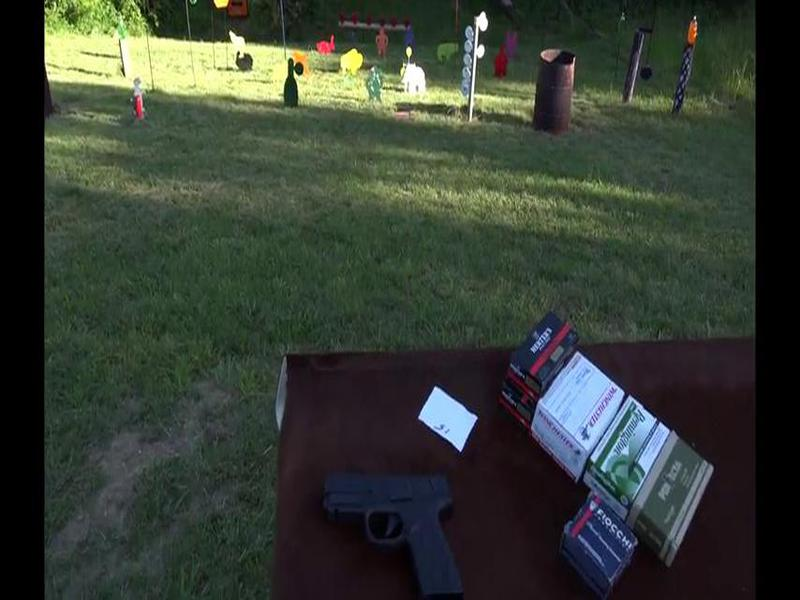Pistola: (301, 459, 482, 594)
